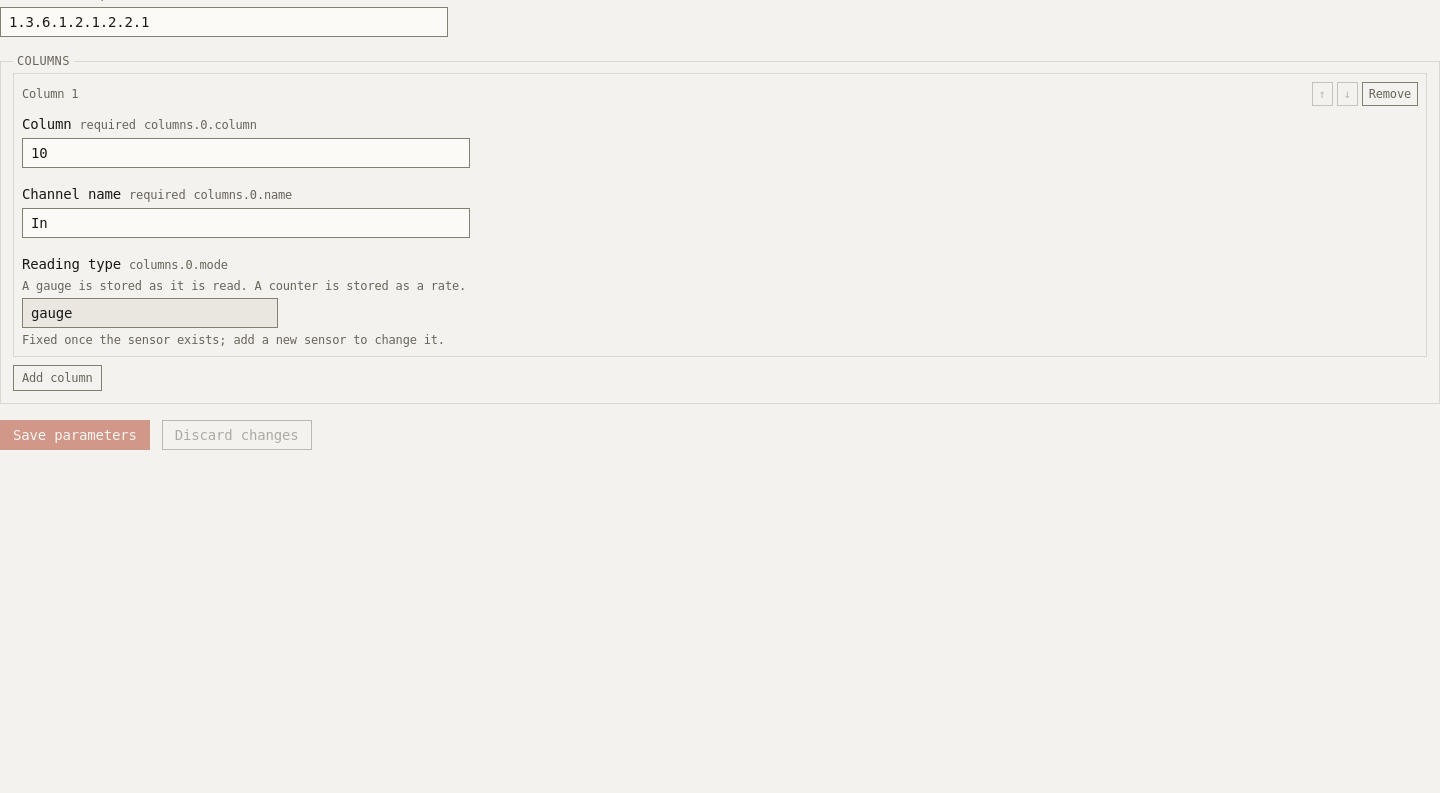
Test case: the refusal, when the core still sends it › is shown as an alert naming the channel, with the core’s own sentence
Click the button "Add column" at (57, 378), box top-left (13, 365), bottom-right (102, 391)
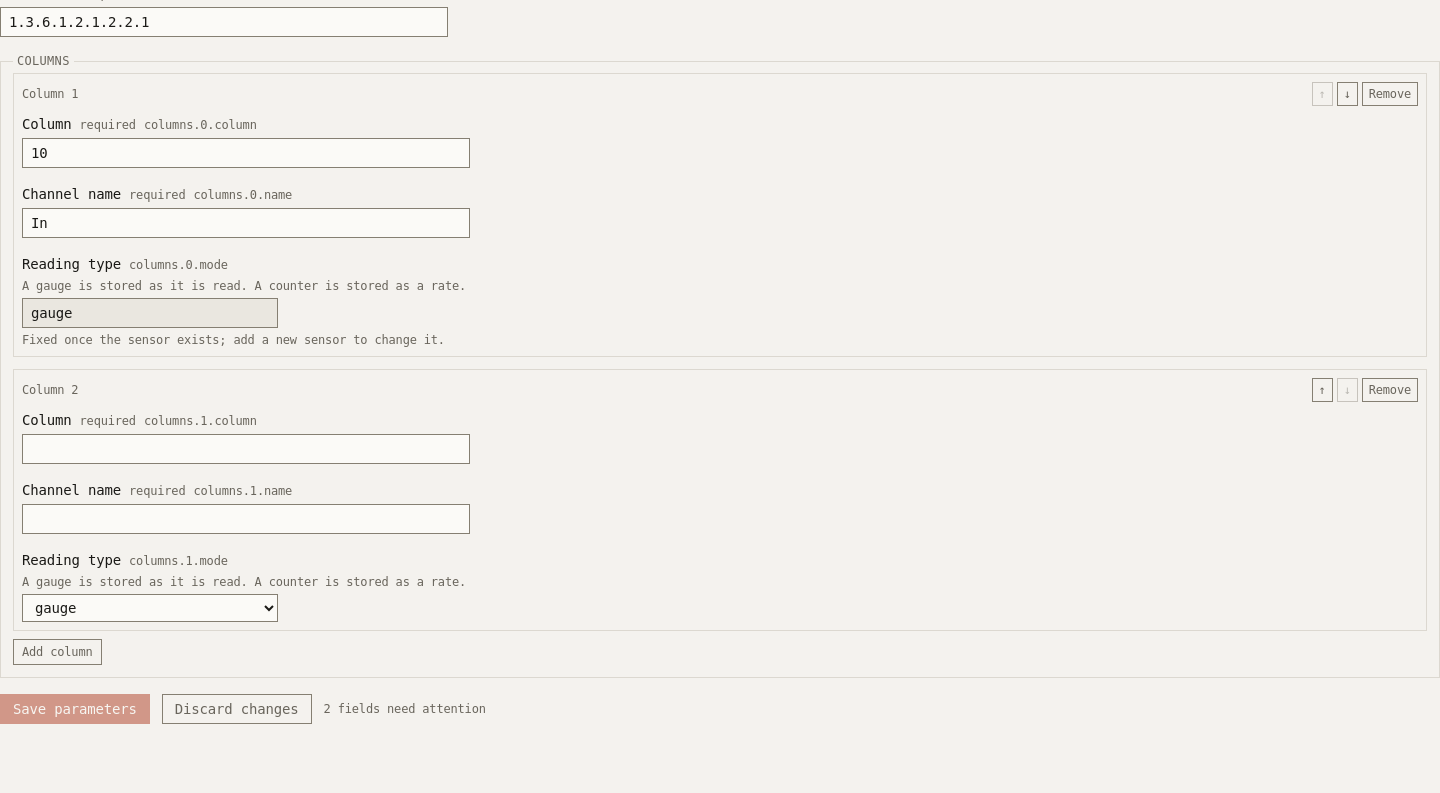
Type "8" into the field labelled "Column" below "columns.1.column" at (246, 449), box top-left (22, 434), bottom-right (470, 464)
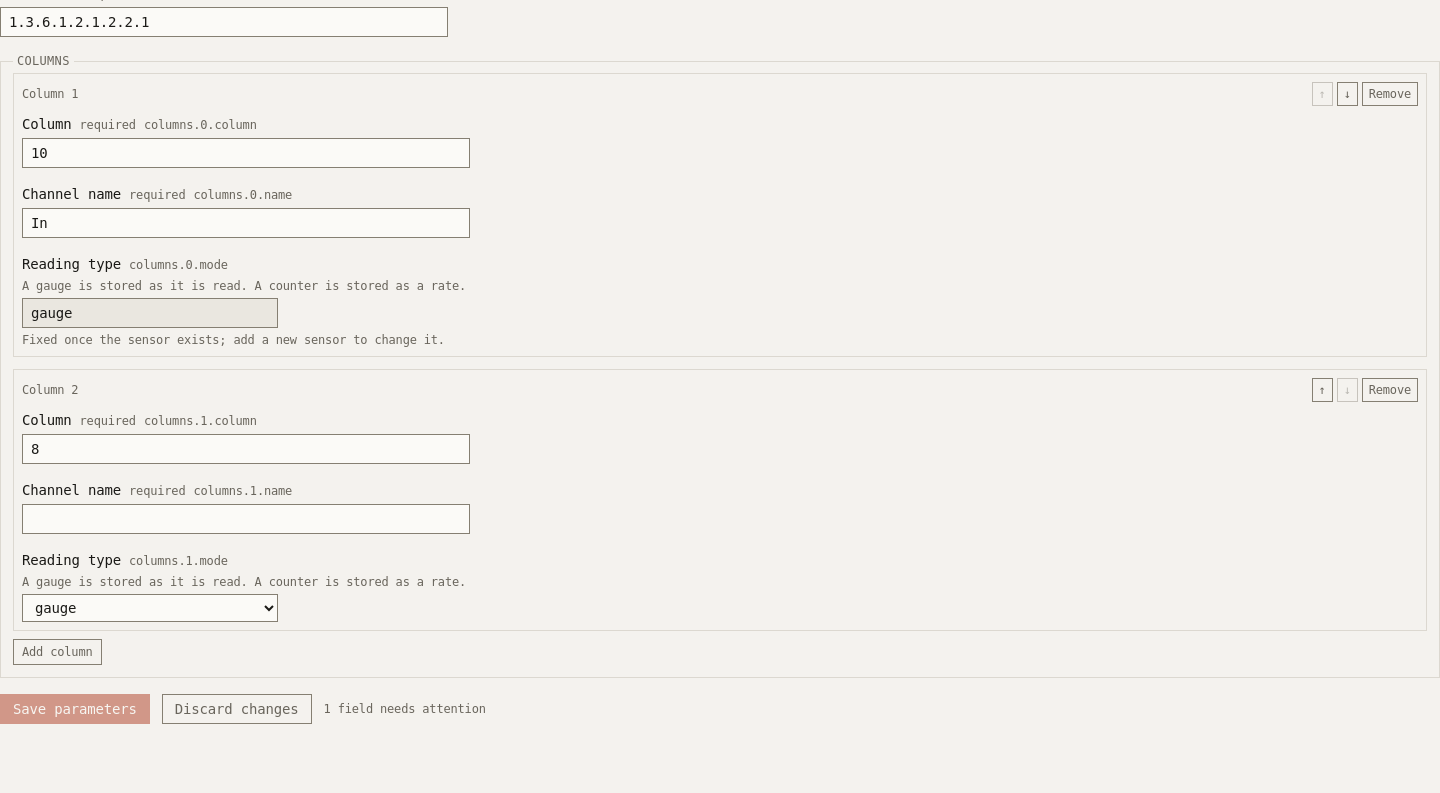
Type "Status" into the field labelled "Channel name" below "columns.1.name" at (246, 519), box top-left (22, 504), bottom-right (470, 534)
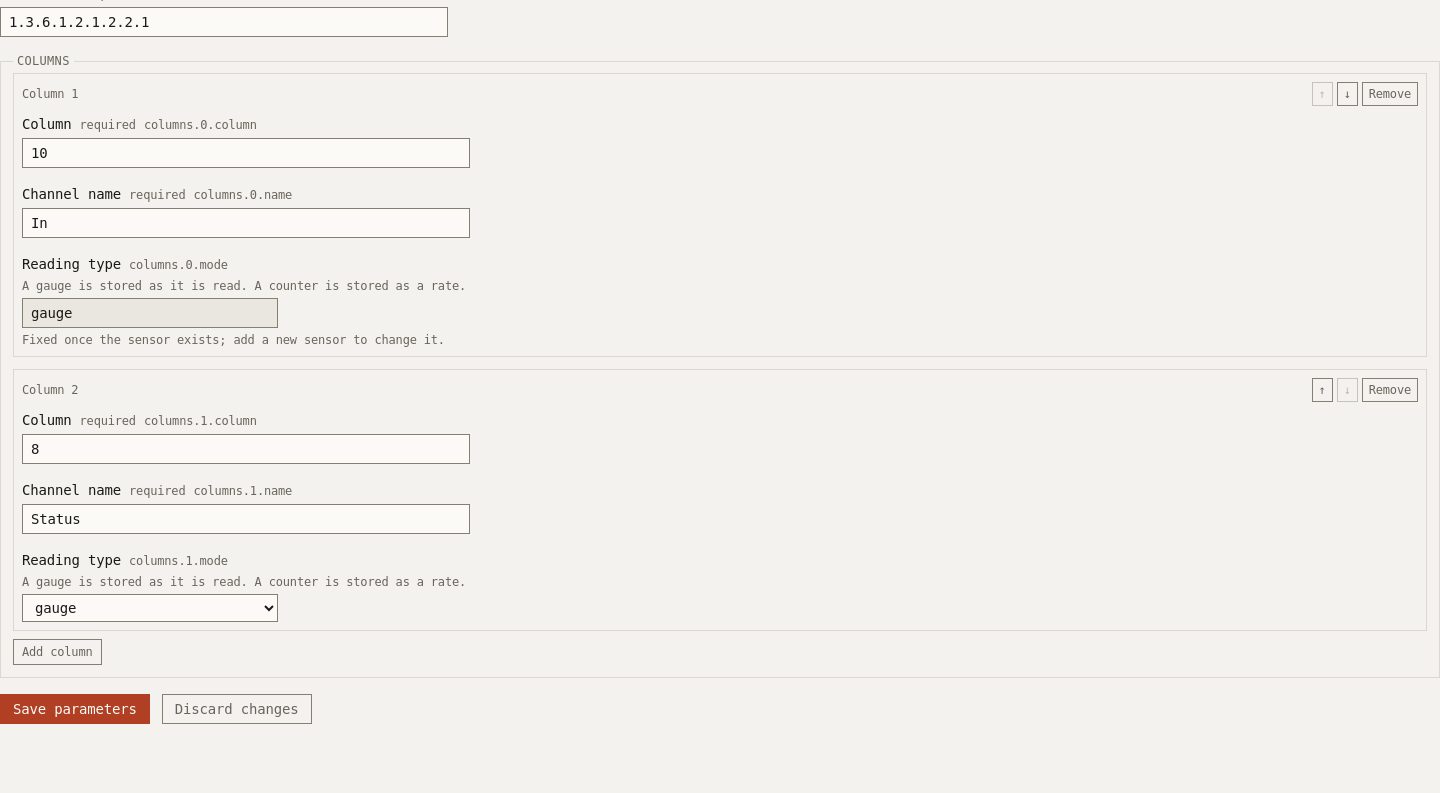
Select "counter" in the dropdown labelled "Reading type" at (150, 608), box top-left (22, 594), bottom-right (278, 622)
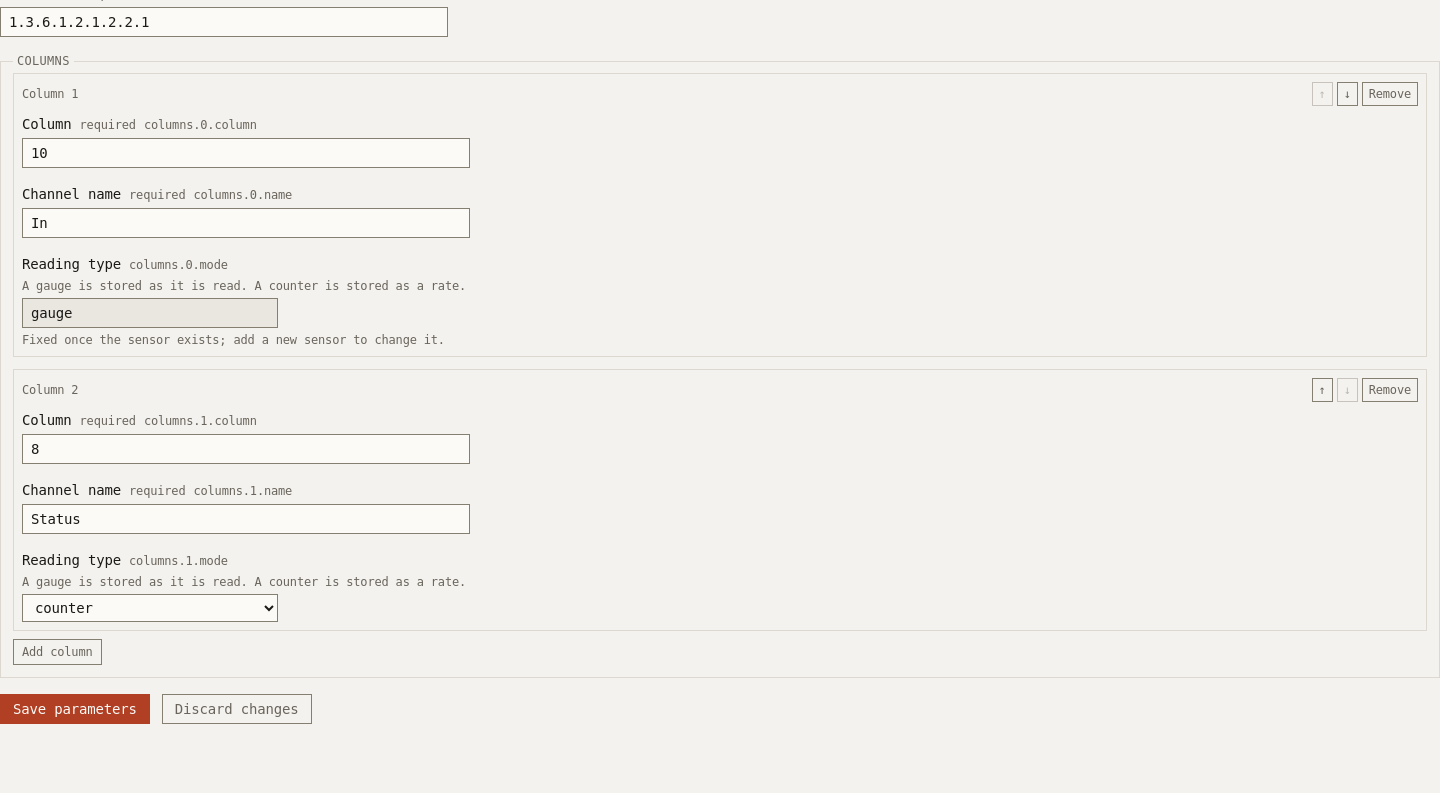
Click the button "Save parameters" at (75, 709), box top-left (0, 694), bottom-right (150, 724)
(page scrolled)
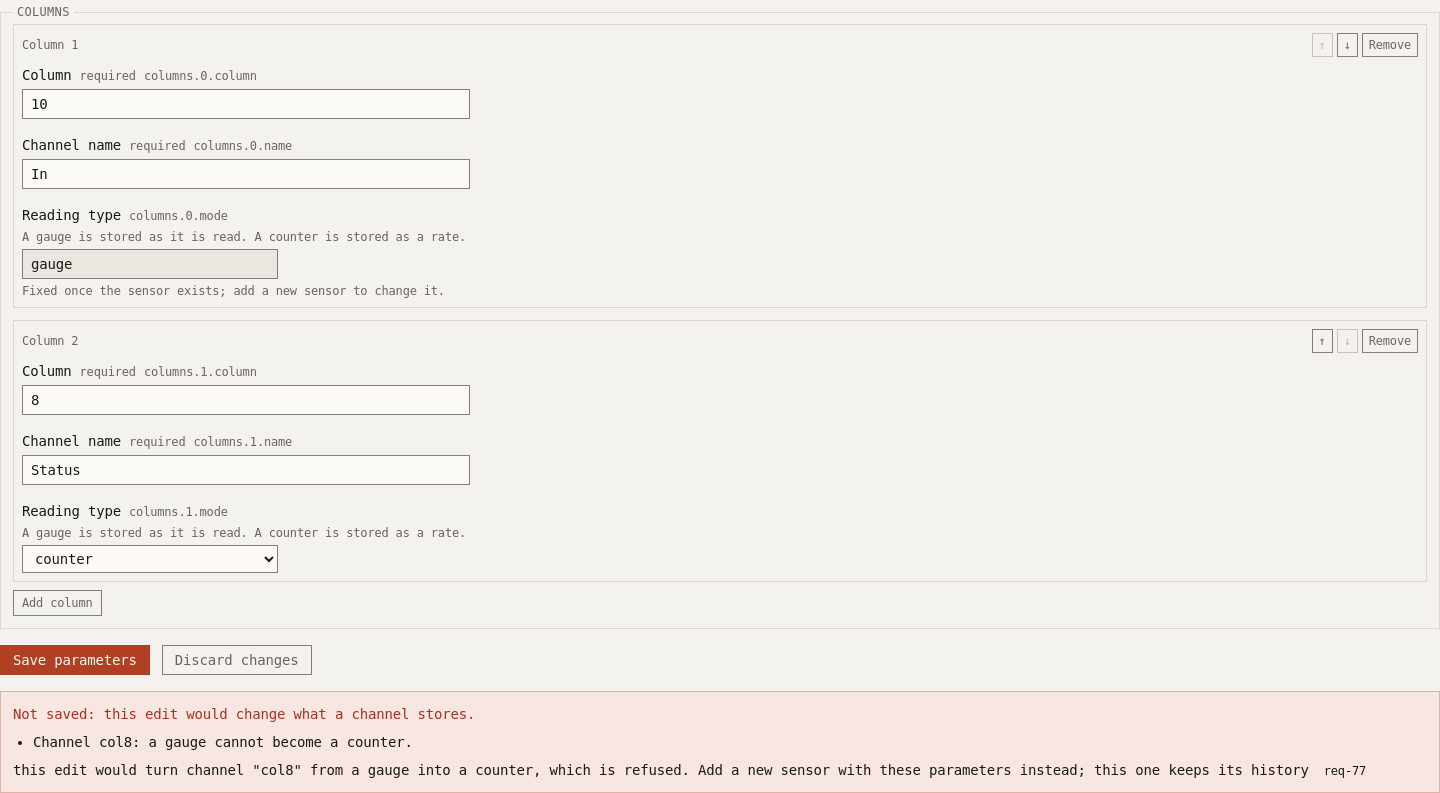
Expected: the list item "Channel col8: a gauge cannot become a counter." is shown, top-left (33, 734), bottom-right (413, 750)
Expected: the message shows "req-77", top-left (1324, 764), bottom-right (1366, 778)
